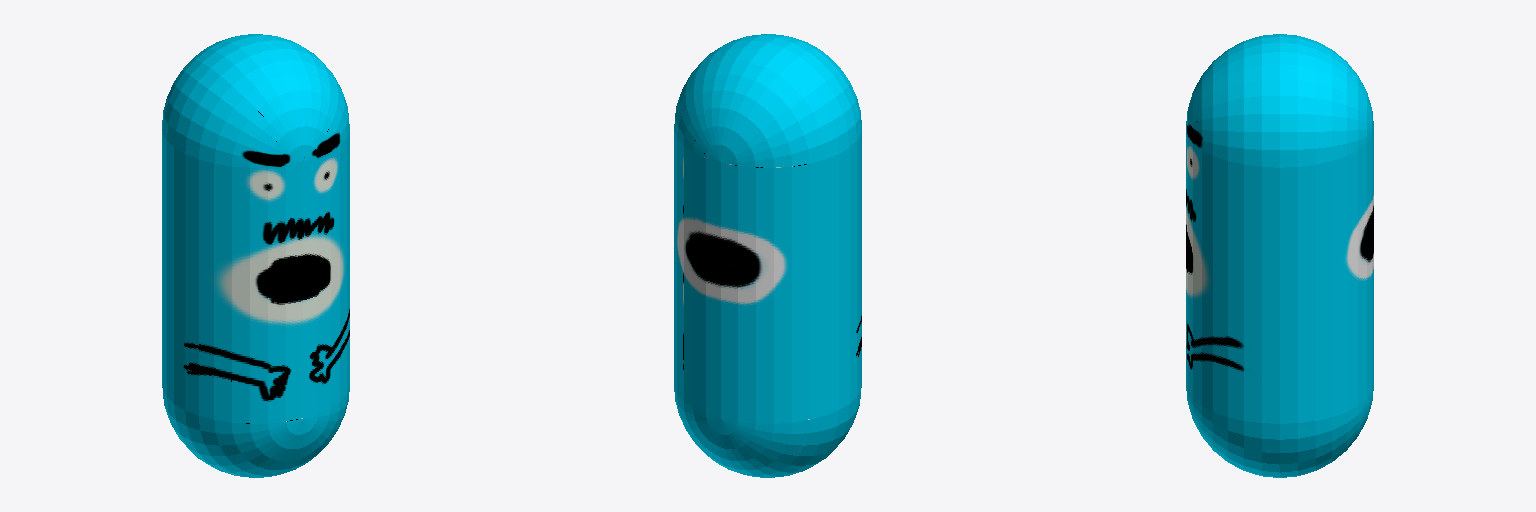
3 views of the same model, side by side, from view 1: azimuth 30°, elevation 25°; view 2: azimuth 150°, elevation 25°; view 3: azimuth 270°, elevation 25° (orthographic).
Parts seen in each view (by area): view 1: Sphere; view 2: Sphere; view 3: Sphere.
Part boxes in pixels (bbox=[...]): Sphere: bbox=[162, 34, 349, 477]; Sphere: bbox=[674, 34, 861, 477]; Sphere: bbox=[1186, 34, 1373, 477].
Size of the model in its own units: 2 by 5 by 2.
Materials: 1 (1 with a texture image).